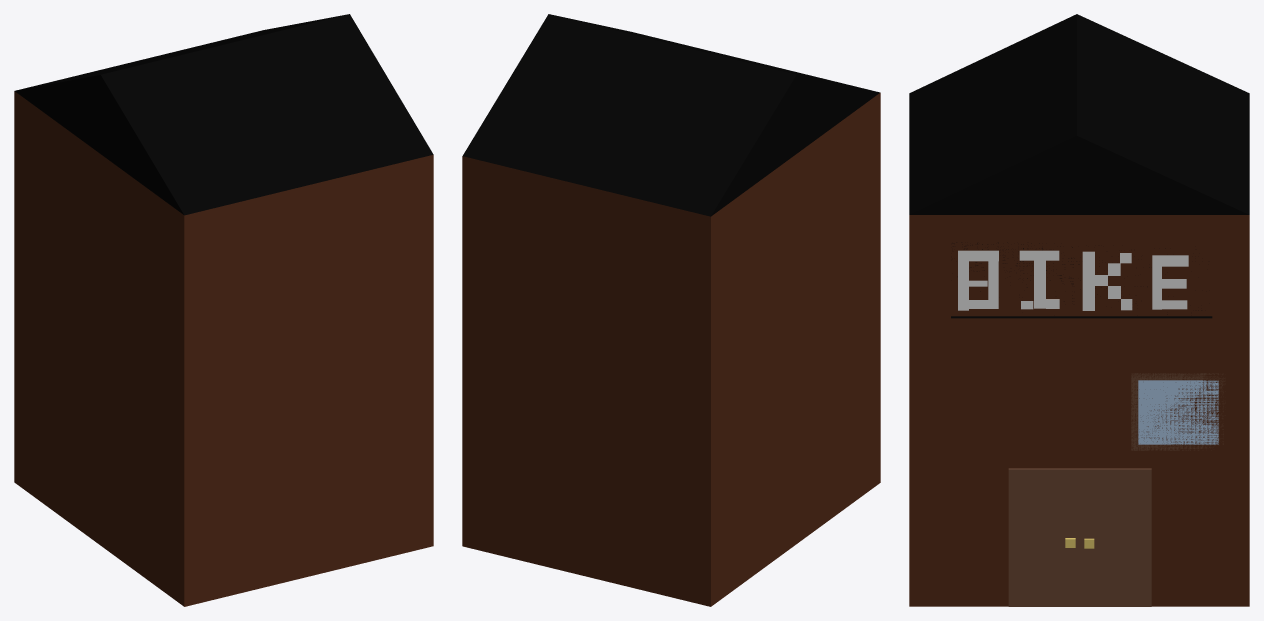
File: bikeshop.fbx
The picture shows the model from 3 angles, left to right: view 1: azimuth 30°, elevation 25°; view 2: azimuth 150°, elevation 25°; view 3: azimuth 270°, elevation 25°; orthographic projection.
Parts seen in each view (by area): view 1: Cube; view 2: Cube; view 3: Cube.
Boxes of the visible parts, box(x1,y1,x2,y2) form: Cube: box(14, 14, 433, 606); Cube: box(462, 14, 880, 606); Cube: box(909, 14, 1249, 606).
Size of the model in its own units: 261 by 458 by 300.
